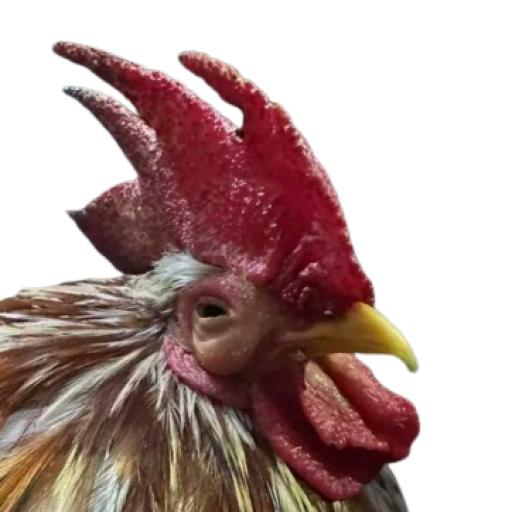disease: (50, 32, 238, 237), (154, 256, 300, 395)
